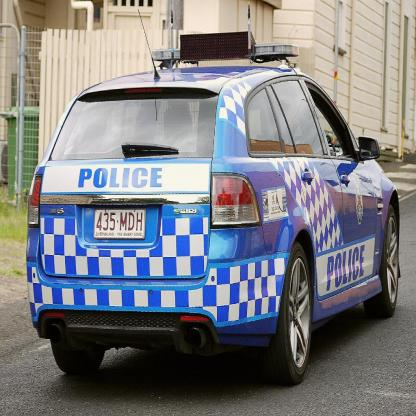Car: (27, 1, 402, 386)
